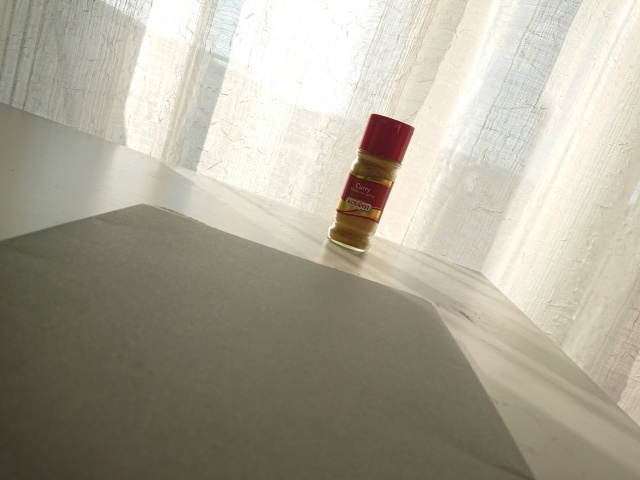Kotanyi Curry Spices Mix 70g: (325, 111, 417, 257)
